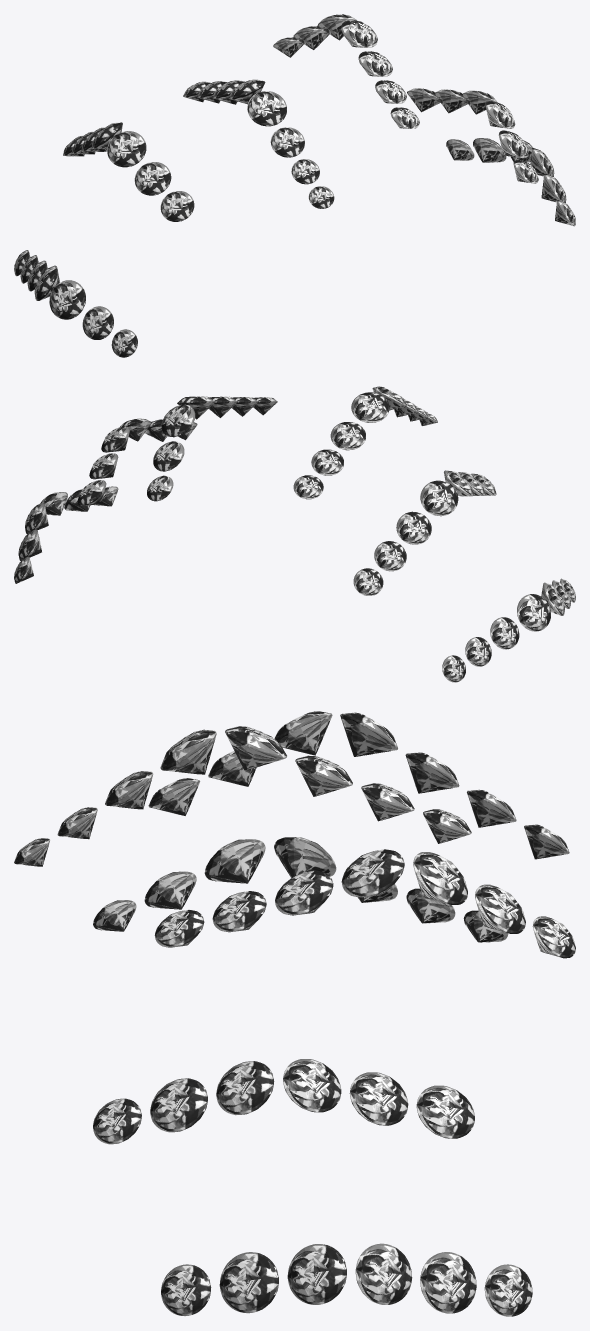
The picture shows the model from 3 angles, top to bottom: view 1: azimuth 30°, elevation 25°; view 2: azimuth 150°, elevation 25°; view 3: azimuth 270°, elevation 25°; orthographic projection. The views are drawn at different scales.
Parts seen in each view (by area): view 1: Object_40, Object_33, Object_25, Object_34, Object_41, Object_35, Object_26, Object_17, Object_16, Object_6, Object_9, Object_10 (+17 smaller); view 2: Object_32, Object_39, Object_24, Object_31, Object_18, Object_23, Object_30, Object_38, Object_19, Object_22, Object_29, Object_37 (+15 smaller); view 3: Object_3, Object_4, Object_6, Object_5, Object_11, Object_12, Object_9, Object_10, Object_13, Object_17, Object_18, Object_1 (+27 smaller).
Boxes of the visible parts, bbox=[...] form: Object_40: bbox=[49, 280, 85, 319]; Object_33: bbox=[107, 131, 146, 167]; Object_25: bbox=[247, 91, 286, 126]; Object_34: bbox=[134, 162, 171, 195]; Object_41: bbox=[82, 306, 113, 339]; Object_35: bbox=[160, 191, 194, 221]; Object_26: bbox=[270, 127, 304, 157]; Object_17: bbox=[341, 20, 377, 47]; Object_16: bbox=[358, 51, 392, 76]; Object_6: bbox=[473, 138, 506, 162]; Object_9: bbox=[498, 130, 528, 158]; Object_10: bbox=[485, 101, 515, 128]; Object_32: bbox=[420, 480, 458, 516]; Object_39: bbox=[517, 594, 550, 631]; Object_24: bbox=[351, 392, 389, 422]; Object_31: bbox=[396, 511, 431, 544]; Object_18: bbox=[161, 404, 195, 437]; Object_23: bbox=[330, 422, 365, 450]; Object_30: bbox=[374, 541, 406, 571]; Object_38: bbox=[490, 617, 519, 649]; Object_19: bbox=[153, 441, 184, 471]; Object_22: bbox=[311, 449, 343, 475]; Object_29: bbox=[353, 568, 383, 595]; Object_37: bbox=[465, 637, 491, 666]; Object_3: bbox=[219, 1252, 278, 1313]; Object_4: bbox=[287, 1244, 346, 1304]; Object_6: bbox=[420, 1252, 476, 1313]; Object_5: bbox=[355, 1243, 412, 1304]; Object_11: bbox=[283, 1059, 341, 1112]; Object_12: bbox=[349, 1072, 408, 1125]; Object_9: bbox=[150, 1078, 207, 1132]; Object_10: bbox=[216, 1061, 274, 1115]; Object_13: bbox=[416, 1085, 474, 1138]; Object_17: bbox=[341, 849, 404, 897]; Object_18: bbox=[413, 852, 467, 904]; Object_1: bbox=[161, 1264, 211, 1316].
Bounding box in the file's own units: 21.16 × 11.76 × 8.05.
1 material, 1 textured.
